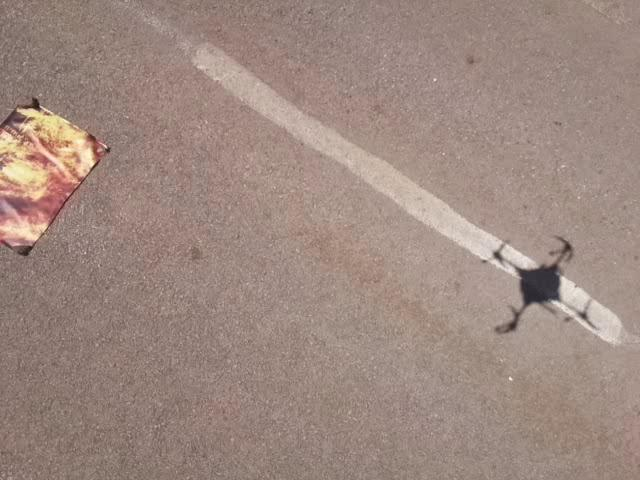fire-poster: (0, 95, 111, 258)
